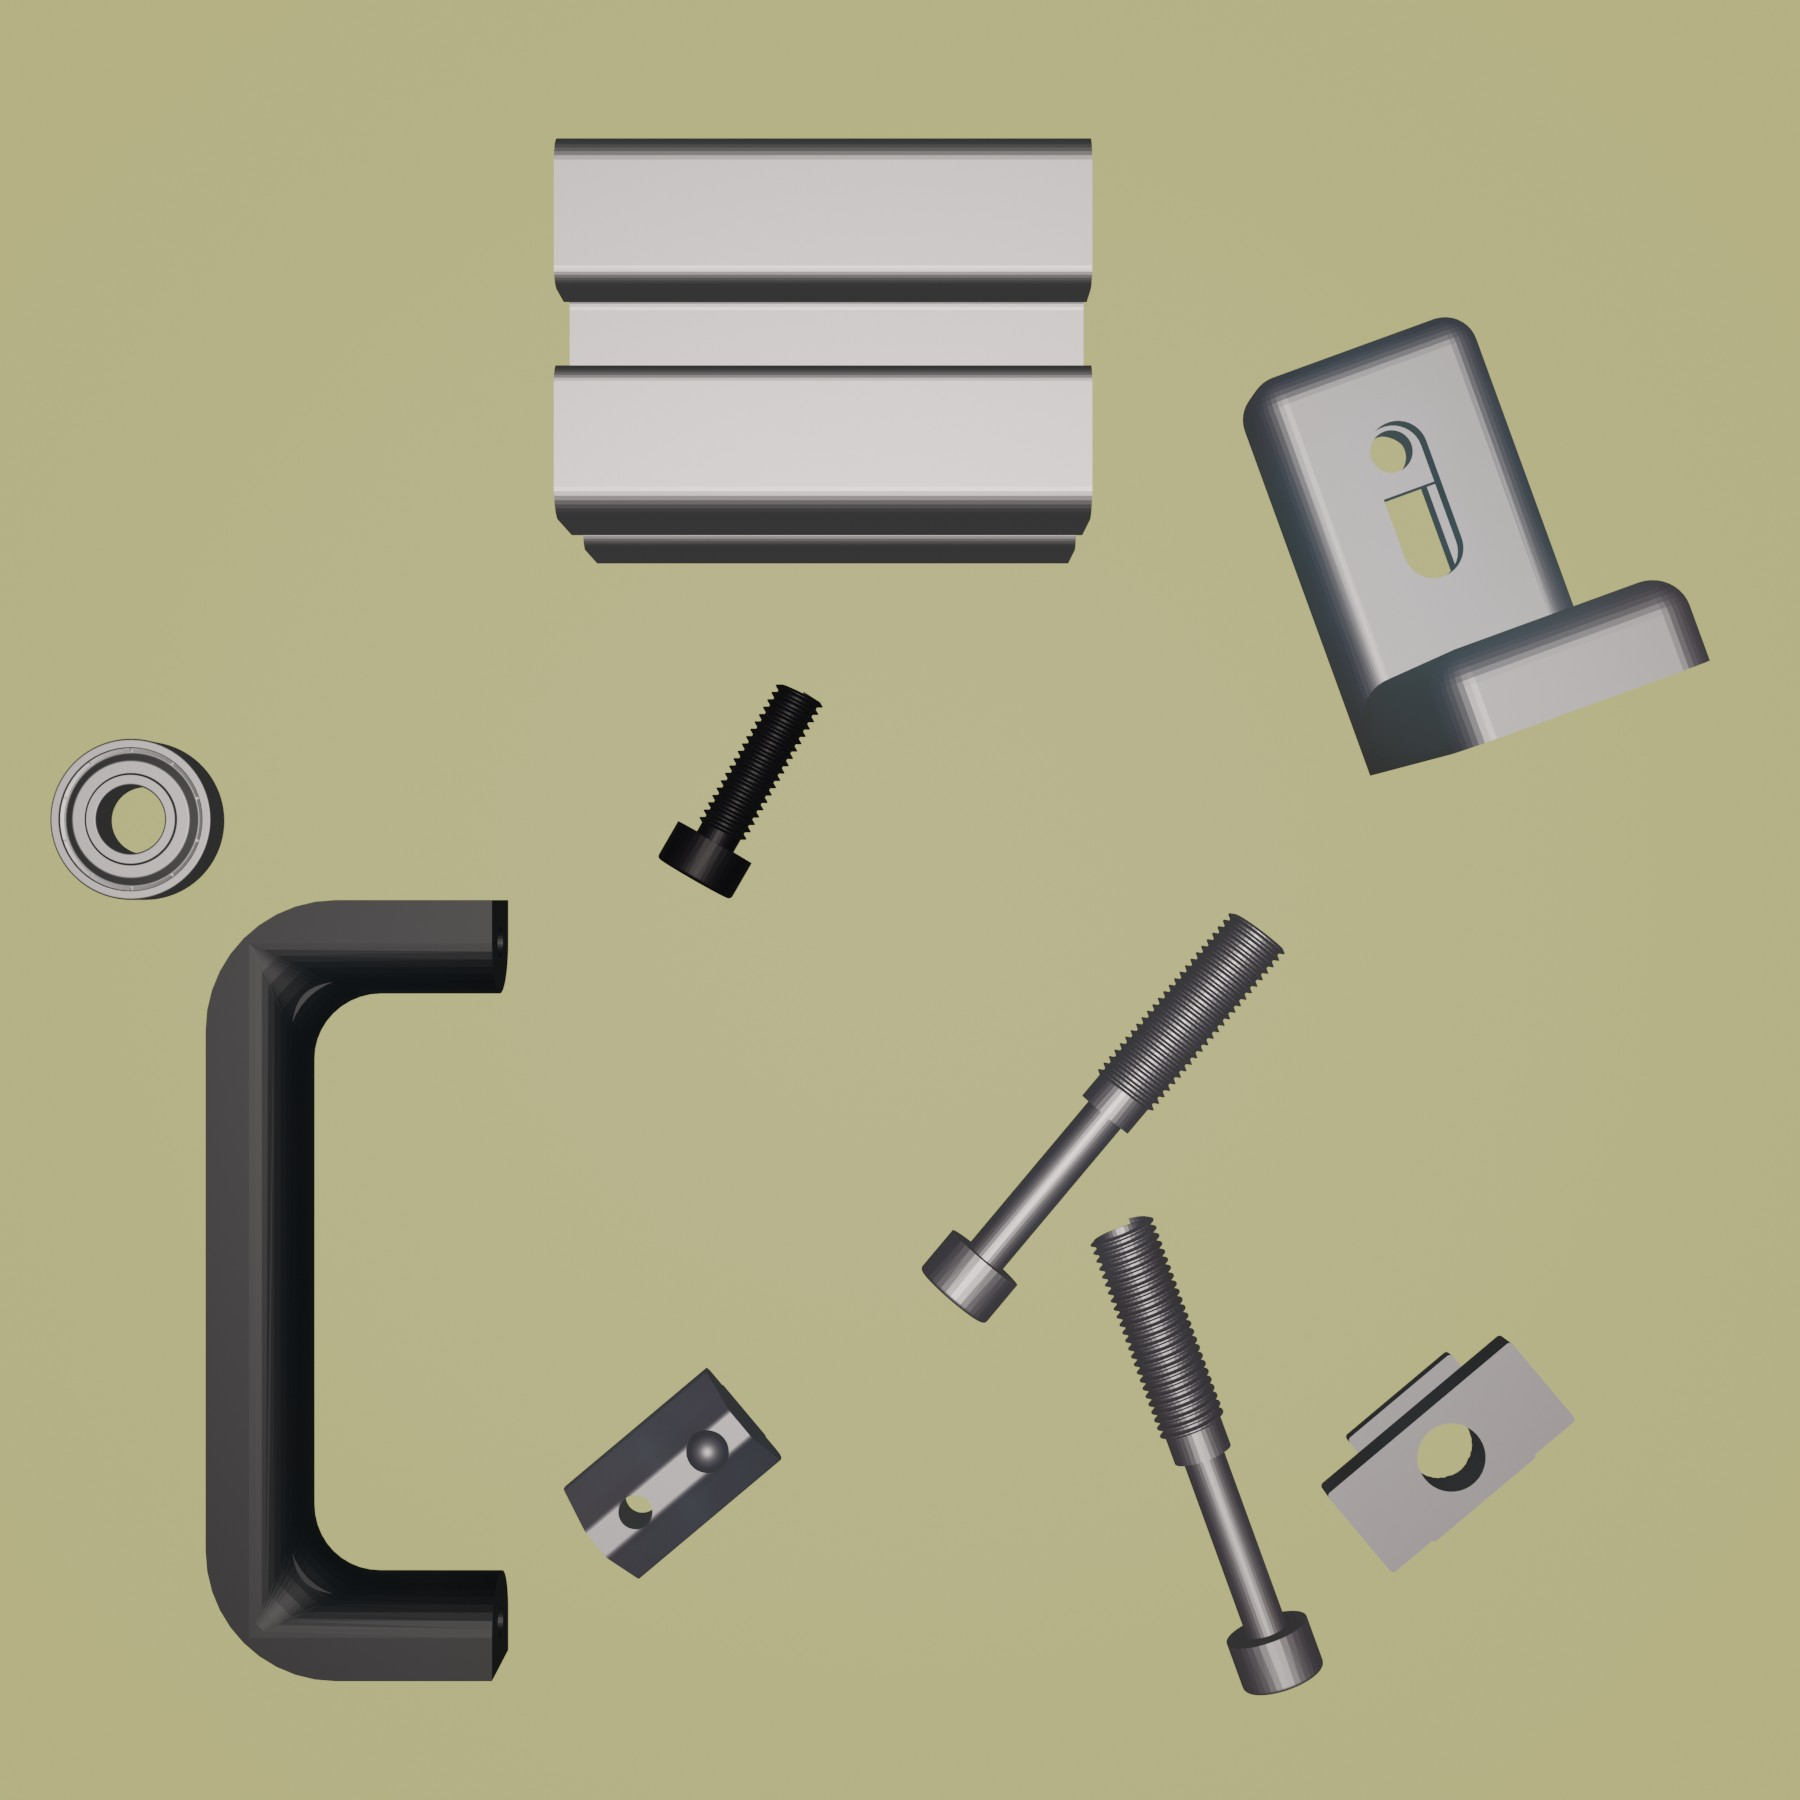Aluminium Extension: (546, 130, 1098, 569)
Ball Bearing: (48, 735, 227, 903)
Multiwinkel: (1240, 315, 1716, 778)
Pull Handle: (199, 893, 513, 1688)
Shoulder Socket Head Cap Screw: (921, 908, 1287, 1325), (1085, 1212, 1327, 1698)
Socket Head Cap Screw: (654, 677, 824, 903)
T Nut Square: (1319, 1332, 1579, 1577)
T Spring Nut: (560, 1365, 786, 1581)
